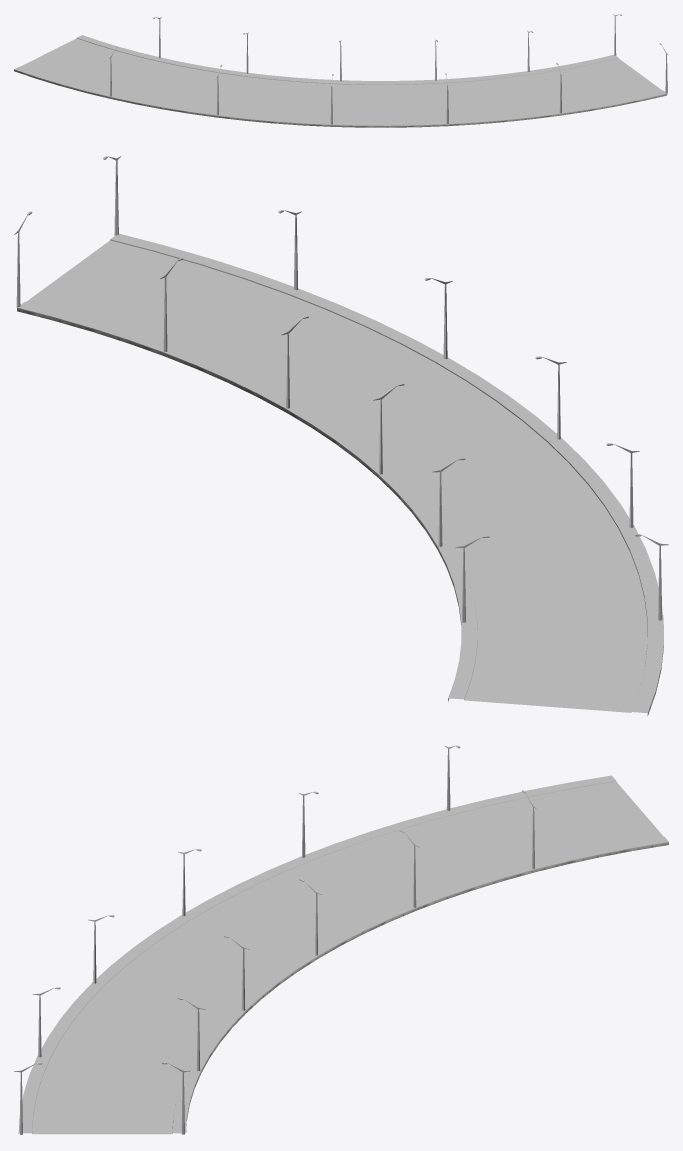
File: Big_Road_70.FBX
The picture shows the model from 3 angles, top to bottom: view 1: azimuth 30°, elevation 25°; view 2: azimuth 150°, elevation 25°; view 3: azimuth 270°, elevation 25°; orthographic projection. The views are drawn at different scales.
Parts seen in each view (by area): view 1: Big_Road_70, city_light013; view 2: Big_Road_70, city_light013; view 3: Big_Road_70, city_light013.
Part boxes in pixels (x1,y1,x2,y2): Big_Road_70: (14, 35, 667, 127); city_light013: (109, 14, 668, 124); Big_Road_70: (17, 233, 663, 715); city_light013: (14, 156, 668, 622); Big_Road_70: (18, 775, 668, 1134); city_light013: (14, 745, 537, 1134).
Bounding box in the file's own units: 11505 × 1104 × 8879.
